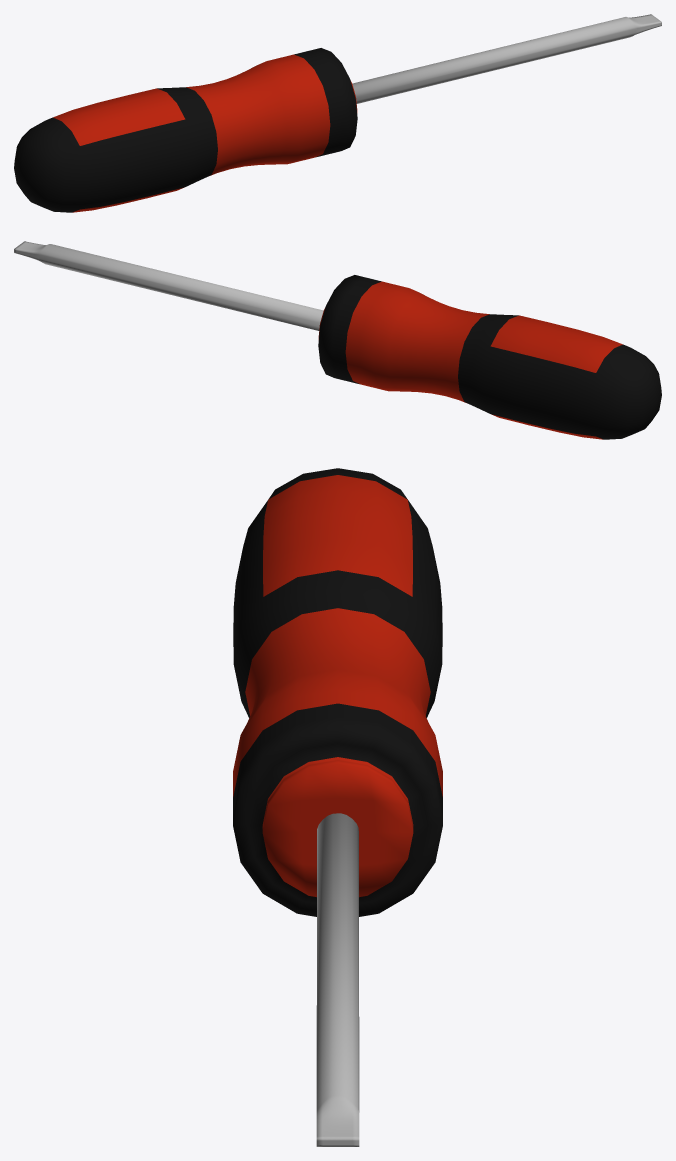
File: Obeng.fbx
The picture shows the model from 3 angles, top to bottom: view 1: azimuth 30°, elevation 25°; view 2: azimuth 150°, elevation 25°; view 3: azimuth 270°, elevation 25°; orthographic projection. The views are drawn at different scales.
Visible parts, largest first — view 1: Obeng.002; view 2: Obeng.002; view 3: Obeng.002.
Boxes of the visible parts, x1=… form: Obeng.002: x1=14, y1=14, x2=661, y2=212; Obeng.002: x1=14, y1=241, x2=661, y2=439; Obeng.002: x1=233, y1=468, x2=442, y2=1146.
Bounding box in the file's own units: 18.66 × 2.67 × 2.67.
